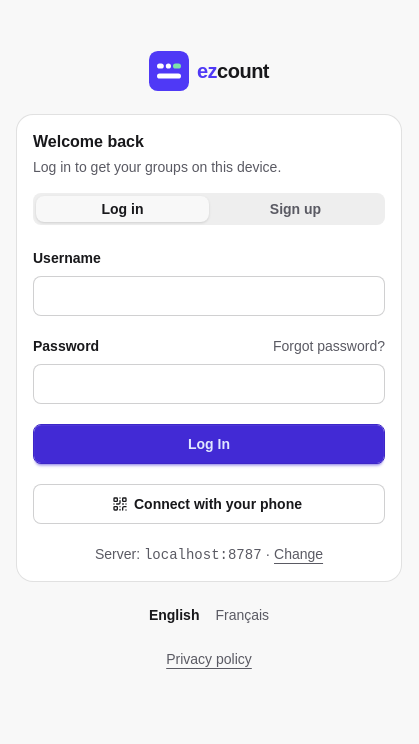
Test: AuthScreen › keeps the relay out of the way until asked for
This screenshot has width=419, height=744.
Click the button with aria-label "Change server": (298, 554) [274, 544, 323, 564]
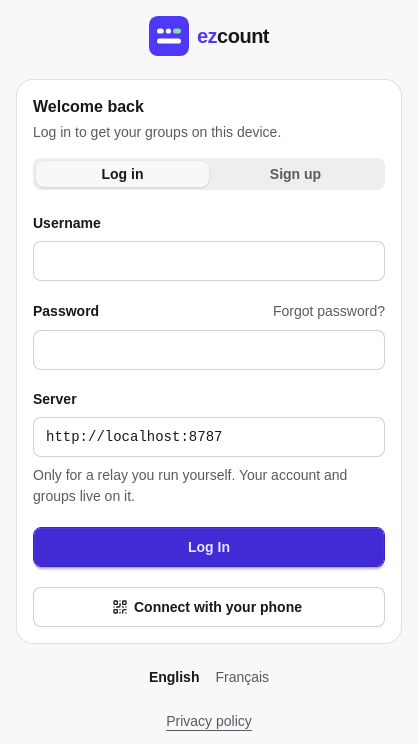
Expected: the field labelled "Server" is shown, [33, 417, 385, 457]
